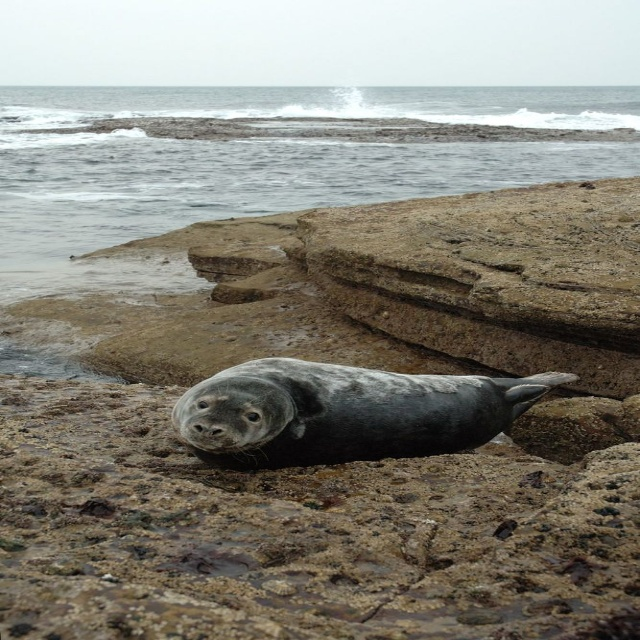Harbor seal: (170, 357, 583, 472)
